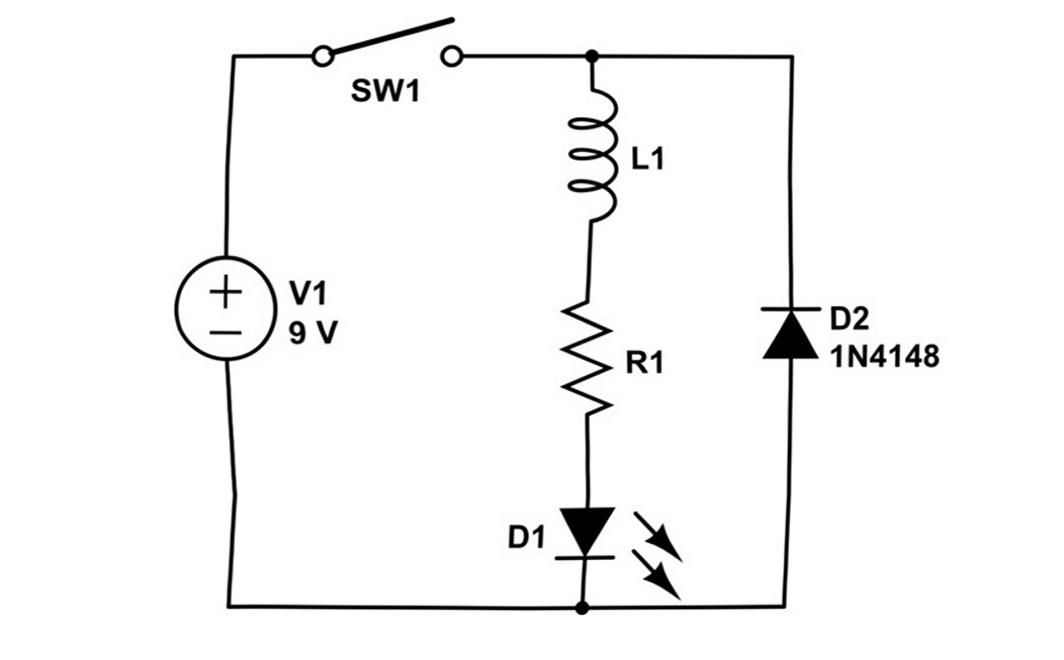Battery: (151, 240, 293, 380)
